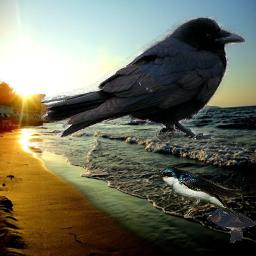Crow: (41, 16, 245, 141)
Swallow: (158, 166, 247, 219), (207, 207, 255, 243)
